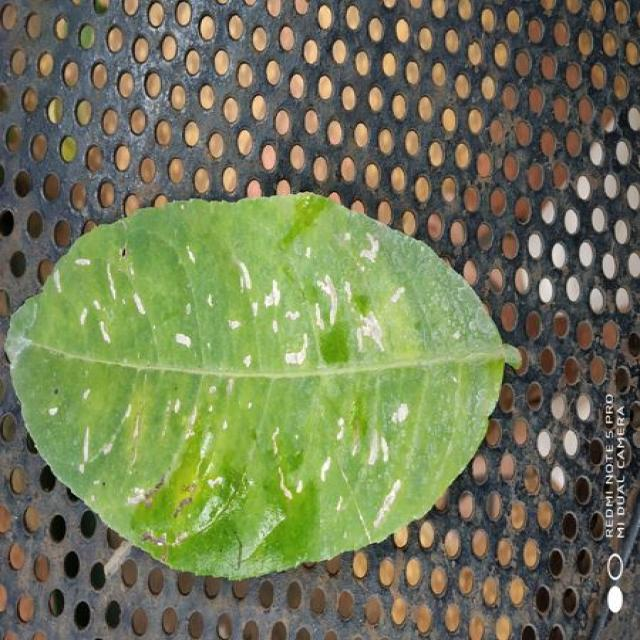badipala: (7, 194, 520, 578)
defectedbadipala: (42, 368, 463, 578), (8, 200, 503, 376)
